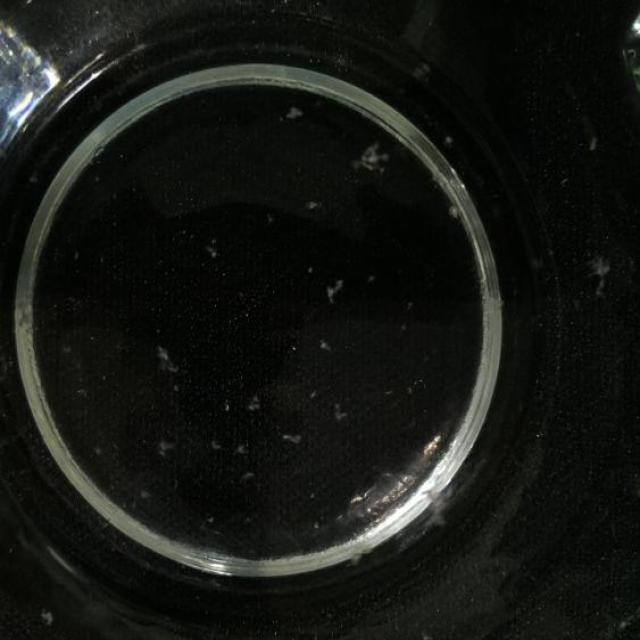fiber: (352, 136, 394, 174), (586, 249, 610, 308), (152, 342, 180, 385), (324, 390, 354, 428), (241, 381, 272, 415), (320, 267, 348, 304), (272, 426, 307, 448), (442, 199, 470, 225), (153, 429, 173, 461), (283, 101, 307, 124), (230, 437, 253, 460), (313, 328, 334, 352), (207, 428, 222, 461), (306, 187, 325, 213)
